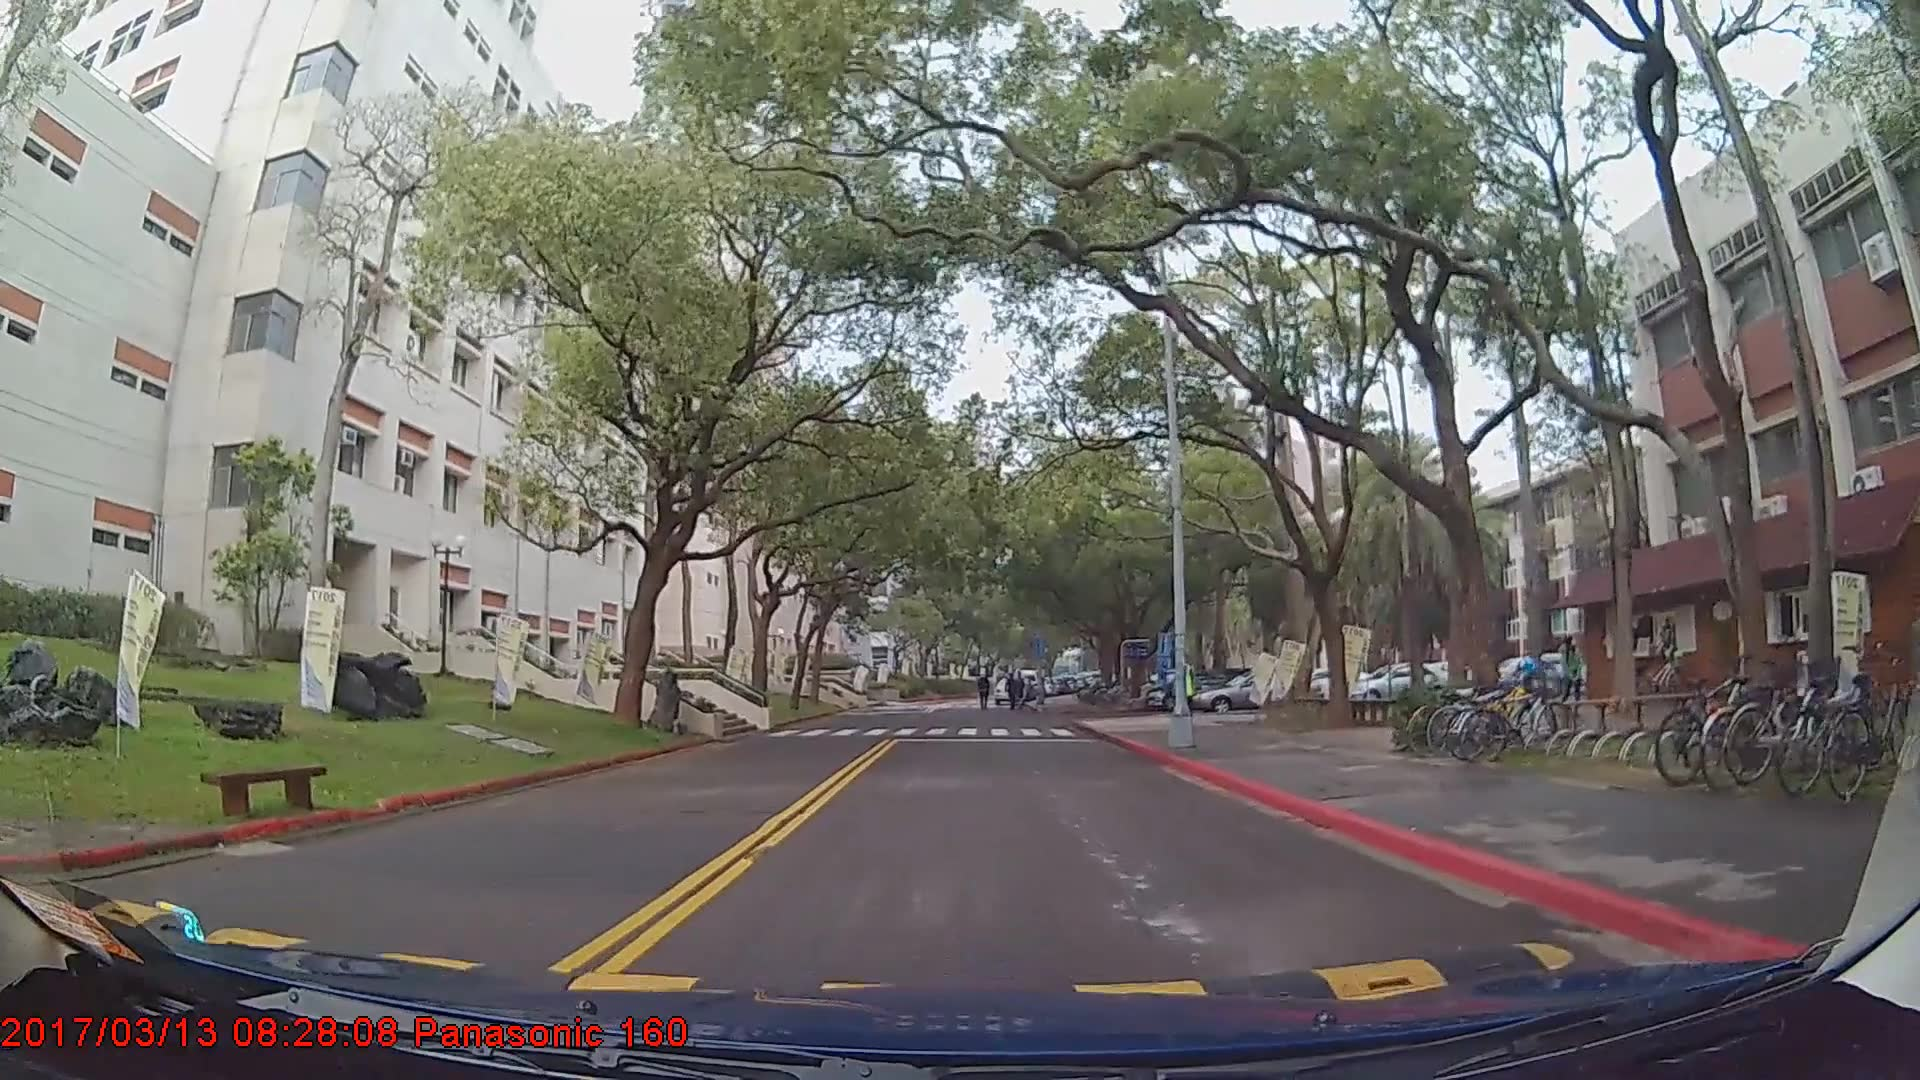vehicle: (1189, 670, 1323, 713), (1346, 661, 1455, 705)
